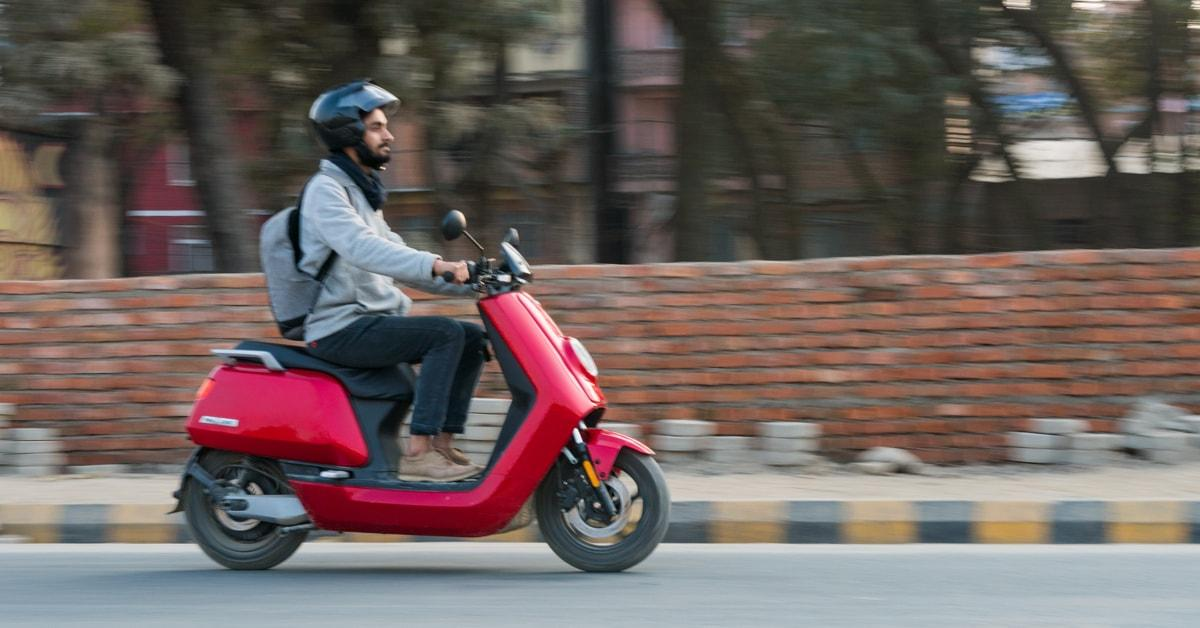scooter: (165, 204, 687, 585)
